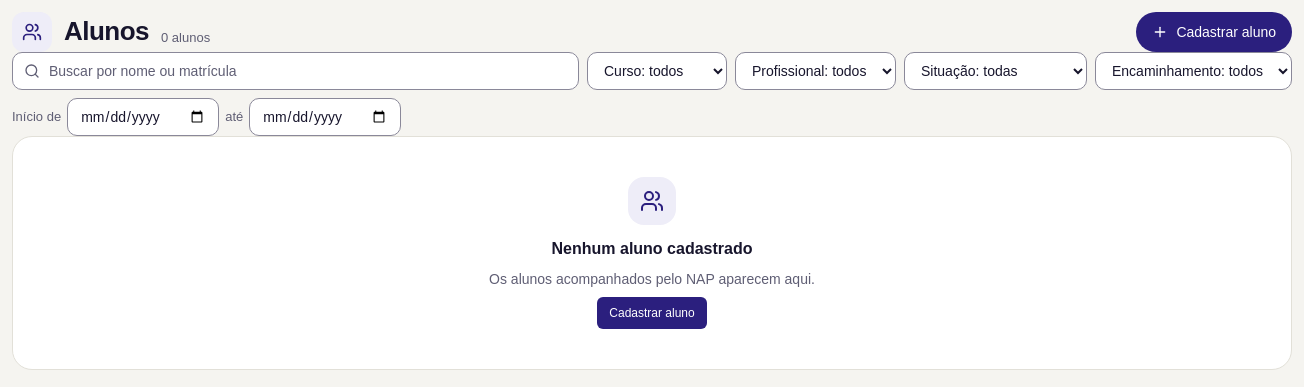
AlunosPage › busca_preserva_espaco_digitado_apos_o_debounce
This screenshot has width=1304, height=387.
Step 1. Type "Maria " into the search field labelled "Buscar por nome ou matrícula" → (296, 71), box [12,52,579,90]
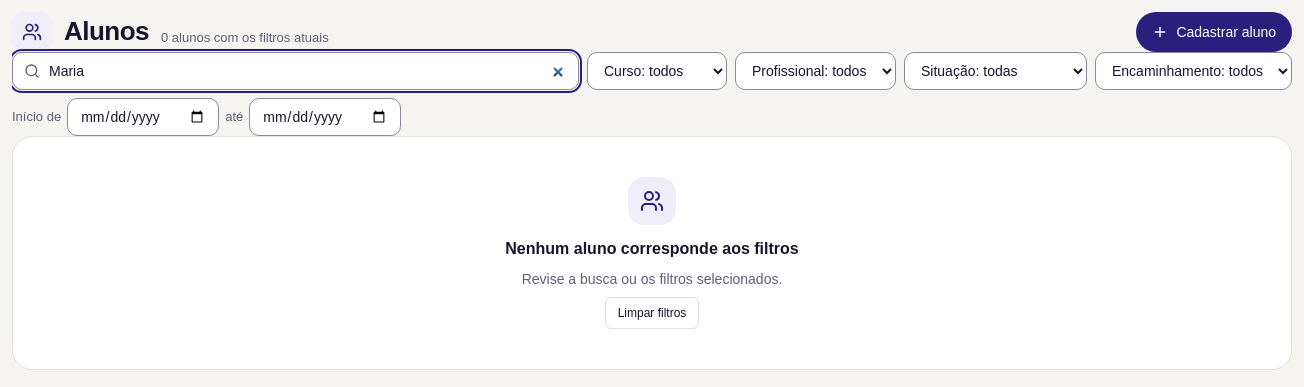
Step 2. Type "Clara" into the search field named "Buscar por nome ou matrícula" → (296, 71), box [12,52,579,90]
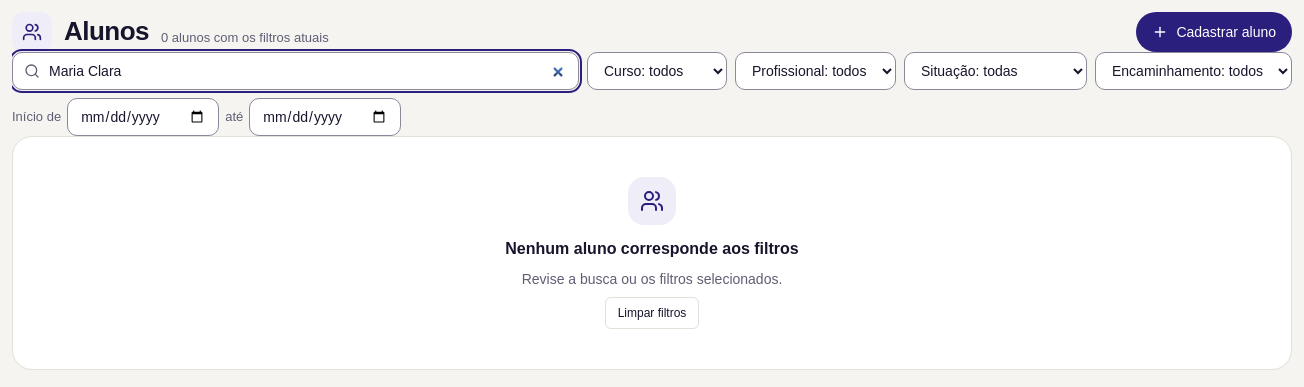
Now the search field named "Buscar por nome ou matrícula" holds "Maria Clara", box [12,52,579,90]
